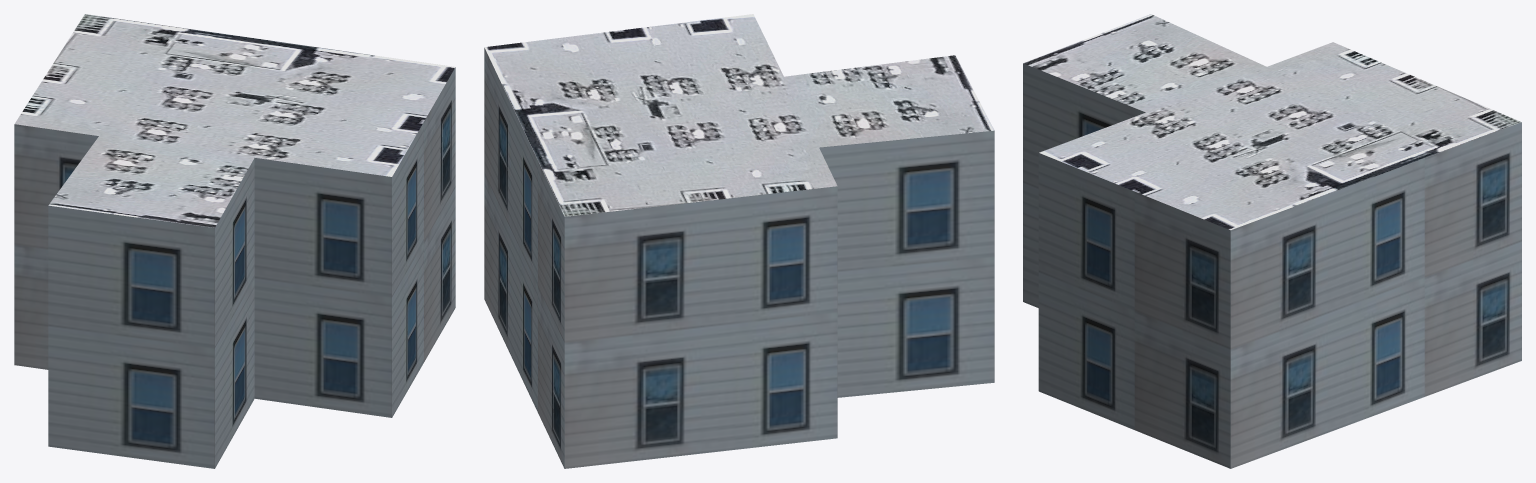
Rendered from ResTex__1276.fbx.
3 views of the same model, side by side, from view 1: azimuth 30°, elevation 25°; view 2: azimuth 150°, elevation 25°; view 3: azimuth 270°, elevation 25° (orthographic). The views are drawn at different scales.
Visible parts, largest first — view 1: CityEngineMaterial_18_m, CityEngineMaterial_2_m; view 2: CityEngineMaterial_18_m, CityEngineMaterial_2_m; view 3: CityEngineMaterial_18_m, CityEngineMaterial_2_m.
Boxes of the visible parts, x1=… form: CityEngineMaterial_18_m: x1=14, y1=67, x2=455, y2=468; CityEngineMaterial_2_m: x1=14, y1=14, x2=455, y2=227; CityEngineMaterial_18_m: x1=484, y1=48, x2=994, y2=468; CityEngineMaterial_2_m: x1=484, y1=14, x2=994, y2=216; CityEngineMaterial_18_m: x1=1023, y1=63, x2=1521, y2=468; CityEngineMaterial_2_m: x1=1023, y1=14, x2=1521, y2=230.
Size of the model in its own units: 11.66 by 6 by 11.36.
Materials: 2 (2 with a texture image).
